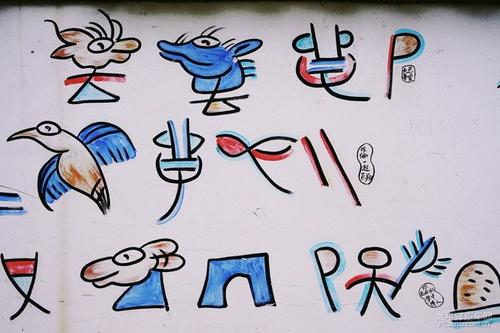naxi: (29, 9, 428, 118), (3, 241, 499, 325), (7, 119, 378, 226)
